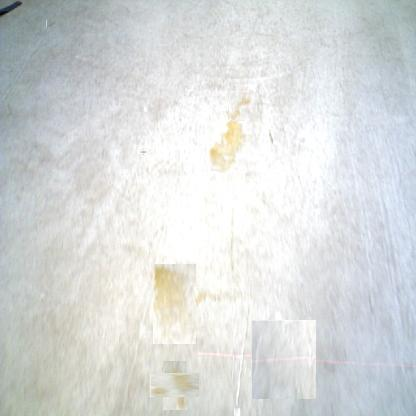liquid: (251, 320, 316, 399), (153, 264, 196, 344), (233, 304, 251, 416), (209, 121, 246, 171), (157, 367, 193, 404), (193, 287, 247, 302), (228, 91, 250, 120)
mark: (47, 19, 57, 28), (270, 132, 275, 146), (140, 149, 146, 156)
